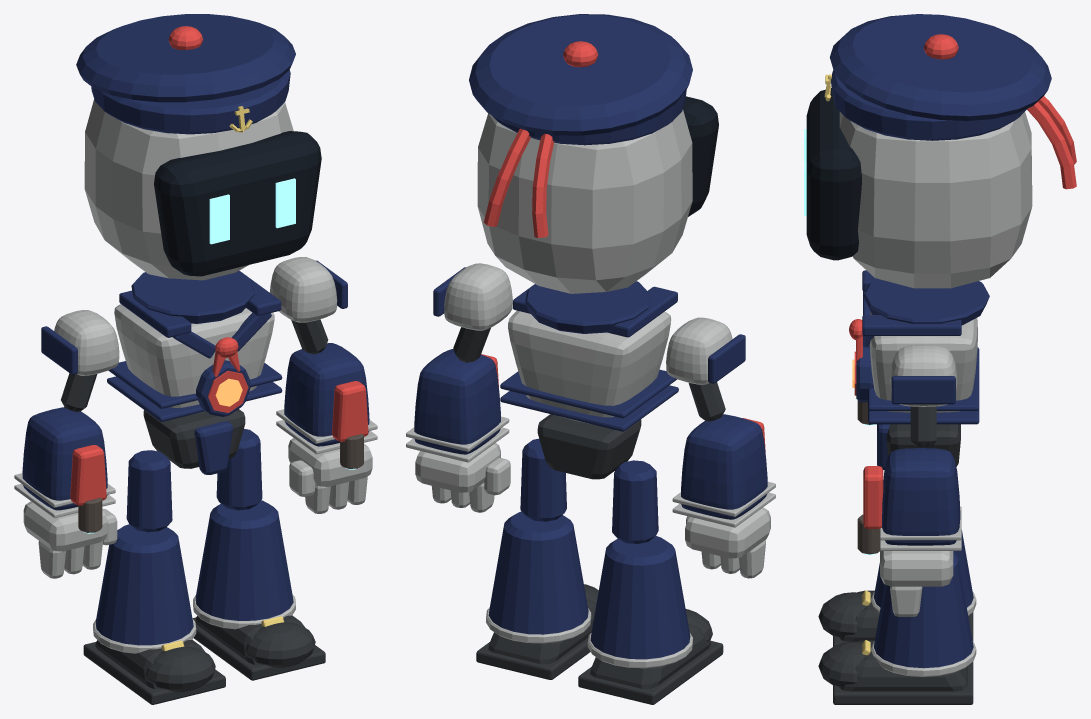
File: marinheiro.glb
3 views of the same model, side by side, from view 1: azimuth 30°, elevation 25°; view 2: azimuth 150°, elevation 25°; view 3: azimuth 270°, elevation 25° (orthographic).
Parts seen in each view (by area): view 1: visor.001, boina, cabeca_p.001, boca_de_sino.001, boca_de_sino, tronco_p.001, boina_faixa, antebraco.003, antebraco.002, gola.001, ombro_p.002, coxa.003 (+37 smaller); view 2: cabeca_p.001, boina, tronco_p.001, boca_de_sino.001, boca_de_sino, antebraco.003, antebraco.002, pelve.001, gola.001, ombro_p.002, coxa.003, ombro_p.003 (+26 smaller); view 3: cabeca_p.001, boina, visor.001, antebraco.002, boca_de_sino, gola.001, boina_faixa, tronco_p.001, mao.002, pe.002, sola.002, ombro_p.002 (+21 smaller).
Boxes of the visible parts, bbox=[...] form: visor.001: bbox=[154, 131, 321, 276]; boina: bbox=[76, 14, 295, 102]; cabeca_p.001: bbox=[84, 99, 293, 280]; boca_de_sino.001: bbox=[95, 524, 193, 645]; boca_de_sino: bbox=[195, 500, 293, 620]; tronco_p.001: bbox=[114, 304, 274, 413]; boina_faixa: bbox=[91, 70, 290, 134]; antebraco.003: bbox=[22, 407, 107, 510]; antebraco.002: bbox=[284, 343, 369, 446]; gola.001: bbox=[131, 271, 254, 323]; ombro_p.002: bbox=[269, 257, 337, 322]; coxa.003: bbox=[126, 450, 172, 532]; cabeca_p.001: bbox=[477, 109, 692, 293]; boina: bbox=[469, 14, 692, 135]; tronco_p.001: bbox=[508, 310, 671, 423]; boca_de_sino.001: bbox=[590, 536, 690, 659]; boca_de_sino: bbox=[488, 511, 588, 634]; antebraco.003: bbox=[681, 414, 767, 519]; antebraco.002: bbox=[414, 349, 500, 454]; pelve.001: bbox=[537, 414, 641, 479]; gola.001: bbox=[525, 281, 650, 333]; ombro_p.002: bbox=[444, 263, 512, 330]; coxa.003: bbox=[612, 460, 658, 543]; ombro_p.003: bbox=[666, 317, 732, 384]; cabeca_p.001: bbox=[839, 112, 1032, 288]; boina: bbox=[829, 14, 1051, 120]; visor.001: bbox=[806, 88, 861, 260]; antebraco.002: bbox=[882, 448, 960, 545]; boca_de_sino: bbox=[873, 553, 973, 668]; gola.001: bbox=[863, 279, 989, 325]; boina_faixa: bbox=[831, 70, 1027, 140]; tronco_p.001: bbox=[869, 312, 977, 412]; mao.002: bbox=[880, 551, 953, 586]; pe.002: bbox=[839, 640, 967, 691]; sola.002: bbox=[833, 661, 973, 704]; ombro_p.002: bbox=[890, 344, 957, 406].
Bounding box in the file's own units: 0.648 × 1.18 × 0.4664.
